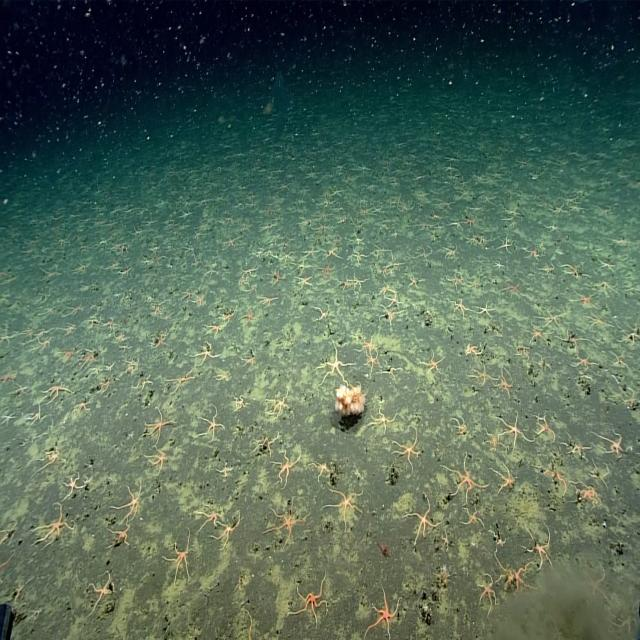brittle-stars: (35, 504, 72, 546), (292, 578, 327, 622), (523, 523, 554, 571), (577, 561, 610, 606), (269, 502, 302, 544), (495, 556, 531, 594), (447, 459, 481, 499), (371, 589, 398, 636), (327, 489, 362, 524), (320, 345, 350, 384), (410, 500, 437, 542), (272, 449, 302, 486), (167, 538, 192, 581), (499, 414, 529, 448), (542, 465, 574, 496), (144, 408, 172, 442), (118, 482, 144, 518), (89, 574, 115, 610), (213, 516, 240, 549), (394, 432, 420, 466), (594, 430, 624, 458), (562, 433, 588, 464), (478, 572, 499, 610), (492, 462, 517, 493), (20, 326, 53, 349), (200, 410, 223, 442), (168, 368, 195, 395), (197, 500, 223, 528), (269, 388, 292, 418), (111, 523, 135, 550), (147, 446, 170, 474), (250, 433, 278, 456), (372, 407, 397, 432), (535, 414, 555, 444), (62, 473, 84, 500), (40, 444, 62, 471), (7, 576, 28, 604), (539, 307, 564, 330), (44, 380, 70, 402), (616, 611, 637, 638), (470, 362, 492, 387), (579, 482, 599, 509), (422, 350, 444, 374), (0, 519, 17, 550), (561, 262, 587, 282), (495, 370, 513, 397), (196, 343, 219, 364), (617, 327, 640, 348), (571, 288, 595, 308), (485, 428, 504, 453), (26, 403, 45, 428), (586, 314, 608, 335), (312, 456, 333, 478), (462, 507, 482, 530), (590, 459, 608, 484), (596, 277, 616, 298), (382, 362, 403, 382), (574, 352, 596, 371), (527, 322, 546, 344), (502, 278, 522, 298), (564, 333, 585, 352), (80, 348, 98, 370), (464, 340, 484, 359), (33, 336, 53, 355), (0, 368, 18, 389), (0, 550, 11, 583), (0, 408, 18, 428), (378, 305, 398, 323), (313, 304, 333, 322), (414, 245, 434, 263), (534, 353, 554, 371), (360, 334, 377, 355), (478, 302, 496, 321), (85, 362, 104, 380), (153, 332, 170, 352), (234, 392, 251, 412), (205, 320, 225, 337), (0, 329, 16, 350), (66, 302, 84, 320), (121, 358, 139, 376), (58, 347, 76, 365), (216, 462, 234, 480), (40, 265, 63, 279), (74, 396, 90, 416), (259, 292, 279, 308), (133, 376, 153, 392), (294, 273, 312, 290), (452, 300, 469, 318), (239, 306, 254, 326), (351, 248, 368, 265), (43, 301, 60, 318), (407, 272, 423, 290), (448, 271, 464, 289), (466, 275, 482, 293), (241, 264, 259, 280), (242, 350, 258, 368), (598, 258, 616, 274), (437, 565, 450, 587), (453, 418, 468, 437), (612, 351, 627, 370), (624, 390, 638, 410), (352, 274, 368, 291), (293, 260, 310, 276), (538, 263, 555, 279), (13, 382, 30, 398), (223, 234, 238, 252), (364, 352, 379, 370), (498, 237, 512, 256), (442, 528, 454, 550), (305, 244, 321, 260), (219, 307, 235, 323), (515, 343, 530, 360), (387, 290, 401, 308), (526, 244, 540, 262), (70, 264, 91, 276), (319, 264, 334, 280), (462, 234, 482, 246), (85, 317, 100, 333), (339, 276, 353, 293), (463, 213, 477, 230), (372, 241, 386, 258), (97, 378, 111, 395), (58, 324, 76, 337), (19, 323, 37, 336), (324, 246, 339, 261), (194, 291, 208, 307), (272, 270, 286, 286), (280, 248, 294, 264), (492, 531, 506, 547), (246, 608, 253, 640), (318, 220, 333, 234), (233, 578, 248, 592), (378, 266, 392, 280), (144, 215, 158, 229), (450, 217, 464, 231), (118, 265, 131, 279), (444, 246, 458, 259), (494, 259, 506, 274), (181, 289, 196, 301), (105, 317, 116, 333), (379, 284, 390, 300), (550, 204, 566, 215), (114, 332, 126, 345), (260, 222, 274, 233), (212, 373, 231, 381), (118, 342, 130, 354), (104, 263, 118, 273), (104, 362, 115, 373)
